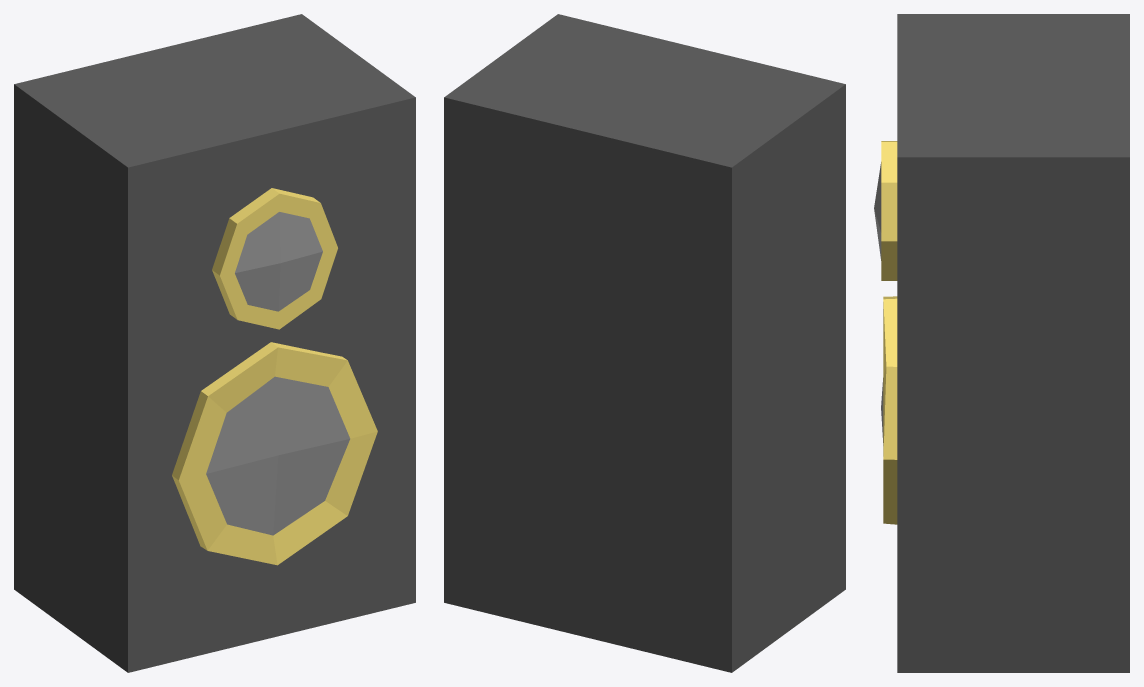
File: Speakers_2.fbx
3 views of the same model, side by side, from view 1: azimuth 30°, elevation 25°; view 2: azimuth 150°, elevation 25°; view 3: azimuth 270°, elevation 25° (orthographic). The views are drawn at different scales.
Parts seen in each view (by area): view 1: Speakers_2; view 2: Speakers_2; view 3: Speakers_2.
Boxes of the visible parts, x1=… form: Speakers_2: x1=14, y1=14, x2=415, y2=672; Speakers_2: x1=444, y1=14, x2=845, y2=672; Speakers_2: x1=874, y1=14, x2=1129, y2=672.
Size of the model in its own units: 43.33 by 32.71 by 72.7.
